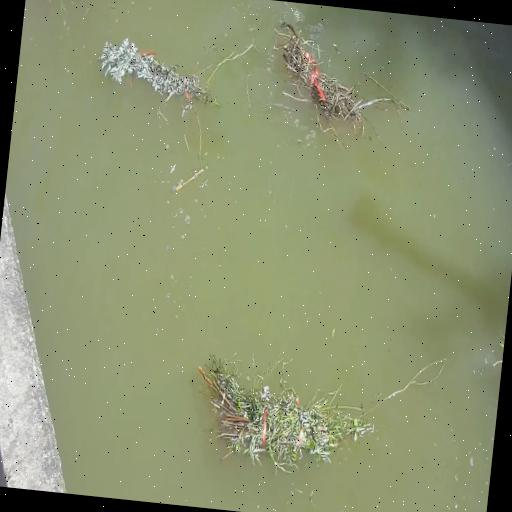twig: (198, 344, 382, 476), (266, 18, 400, 132), (90, 28, 216, 122)
